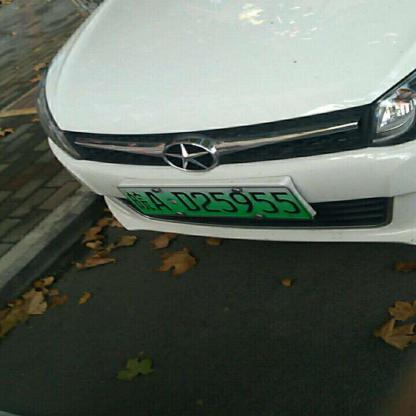lp: (116, 187, 313, 219)
